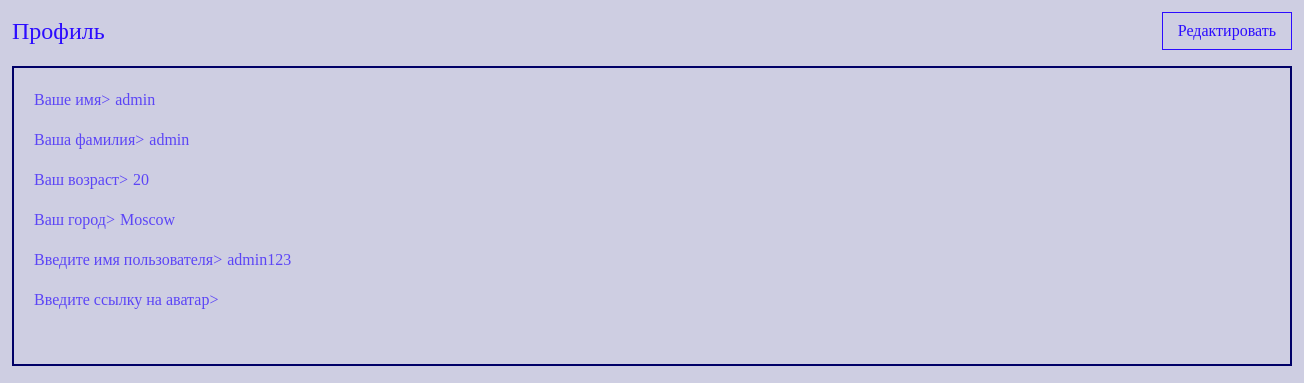
it: features/EditableProfileCard › Toggle readonly
Click the button with test id "EditableProfileCardHeader.EditBtn": (1227, 31) [1162,12,1292,50]
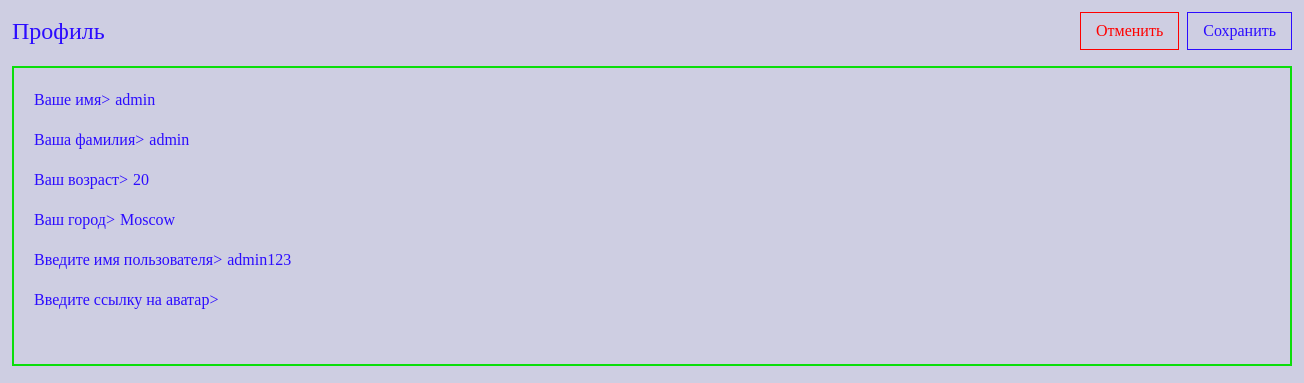
Expected: the button with test id "EditableProfileCardHeader.CancelBtn" is shown, [1080,12,1179,50]
